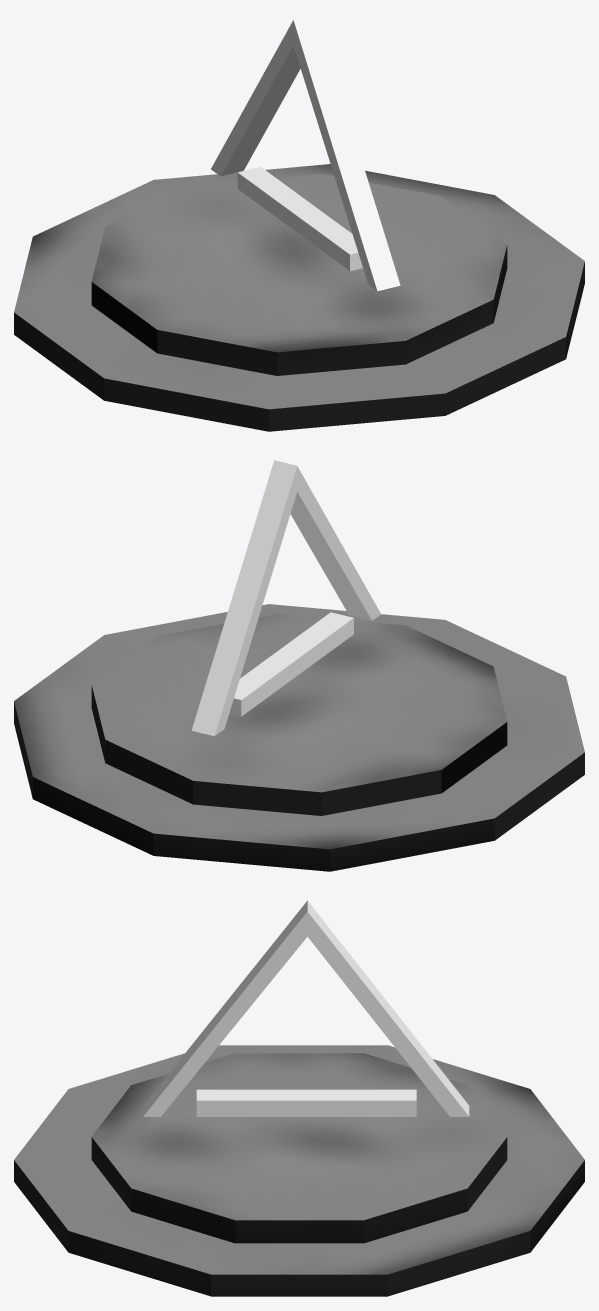
Rendered from alt-peice.dae.
The picture shows the model from 3 angles, top to bottom: view 1: azimuth 30°, elevation 25°; view 2: azimuth 150°, elevation 25°; view 3: azimuth 270°, elevation 25°; orthographic projection. The views are drawn at different scales.
Visible parts, largest first — view 1: Circle; view 2: Circle; view 3: Circle.
Part boxes in pixels (x1,y1,x2,y2): Circle: (14, 14, 584, 431); Circle: (14, 460, 584, 871); Circle: (14, 900, 584, 1296).
Bounding box in the file's own units: 0.2484 × 0.2612 × 0.1416.
Materials: 1 (1 with a texture image).
